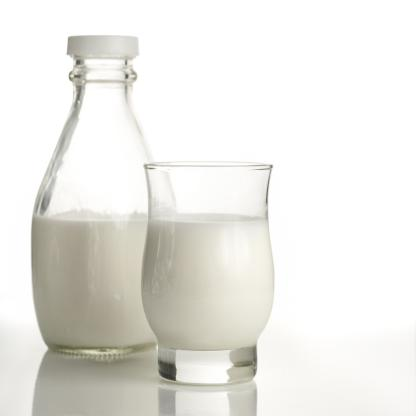milk: (32, 32, 160, 350), (142, 156, 274, 387)
